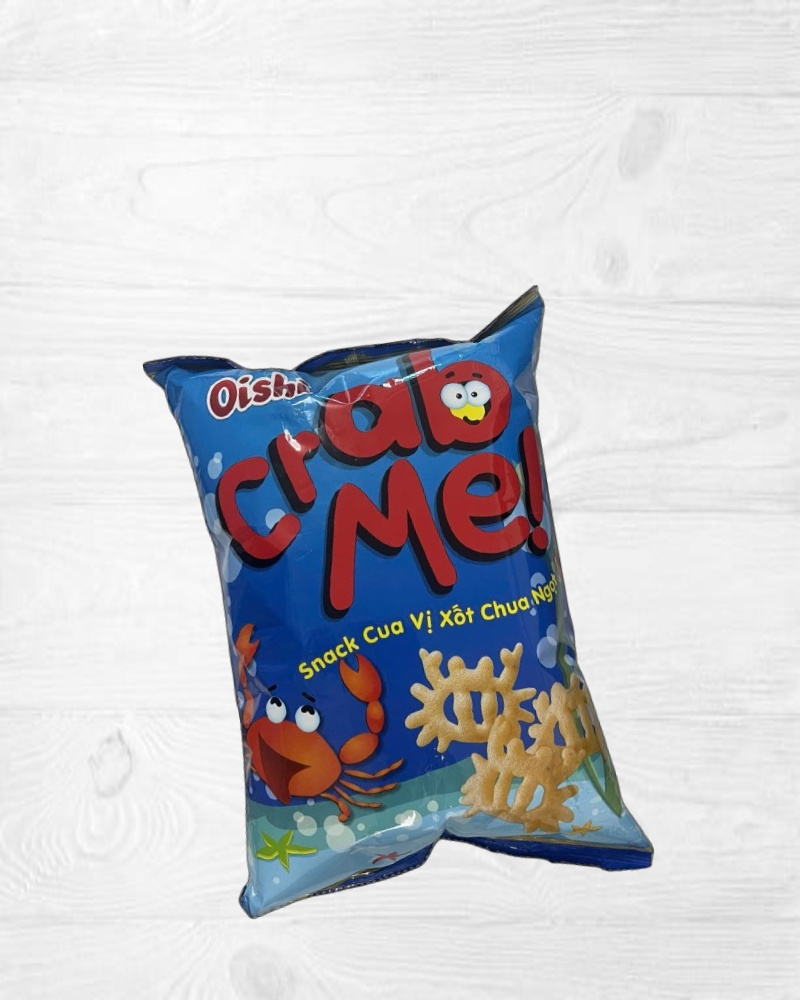Snack cua: (142, 283, 656, 933)
